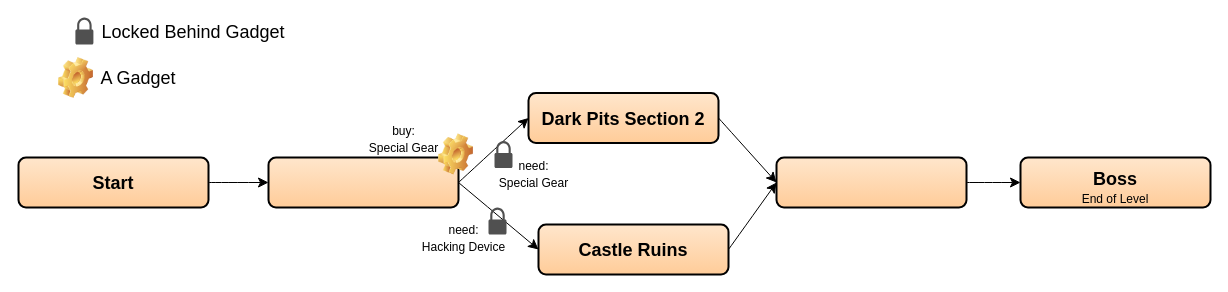
The diagram is 1228 pixels wide and 292 high, and some of its shapes have lost their labels. Here are the shapes that lost their labels. From the top down, the centre of each, then its label:
At point (363, 182): "Dark Pits Section 1".
At point (871, 182): "Unfinished Bunker".
